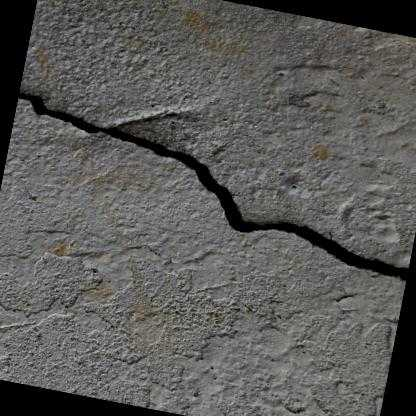crack: (18, 92, 408, 281)
